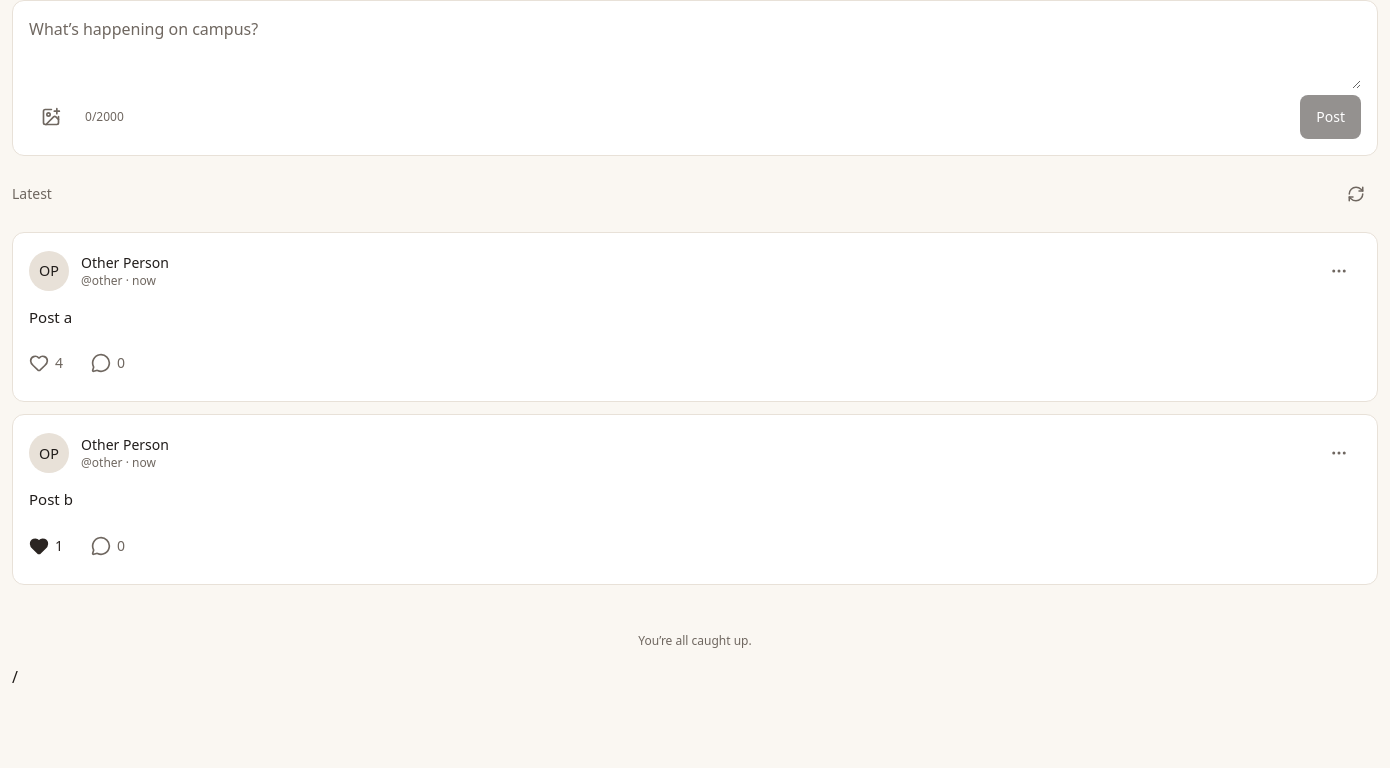
it: likes › unlikes with the DELETE call
The width and height of the screenshot is (1390, 768).
Click the button named "Unlike (1 like)": (50,546) [29, 524, 71, 568]
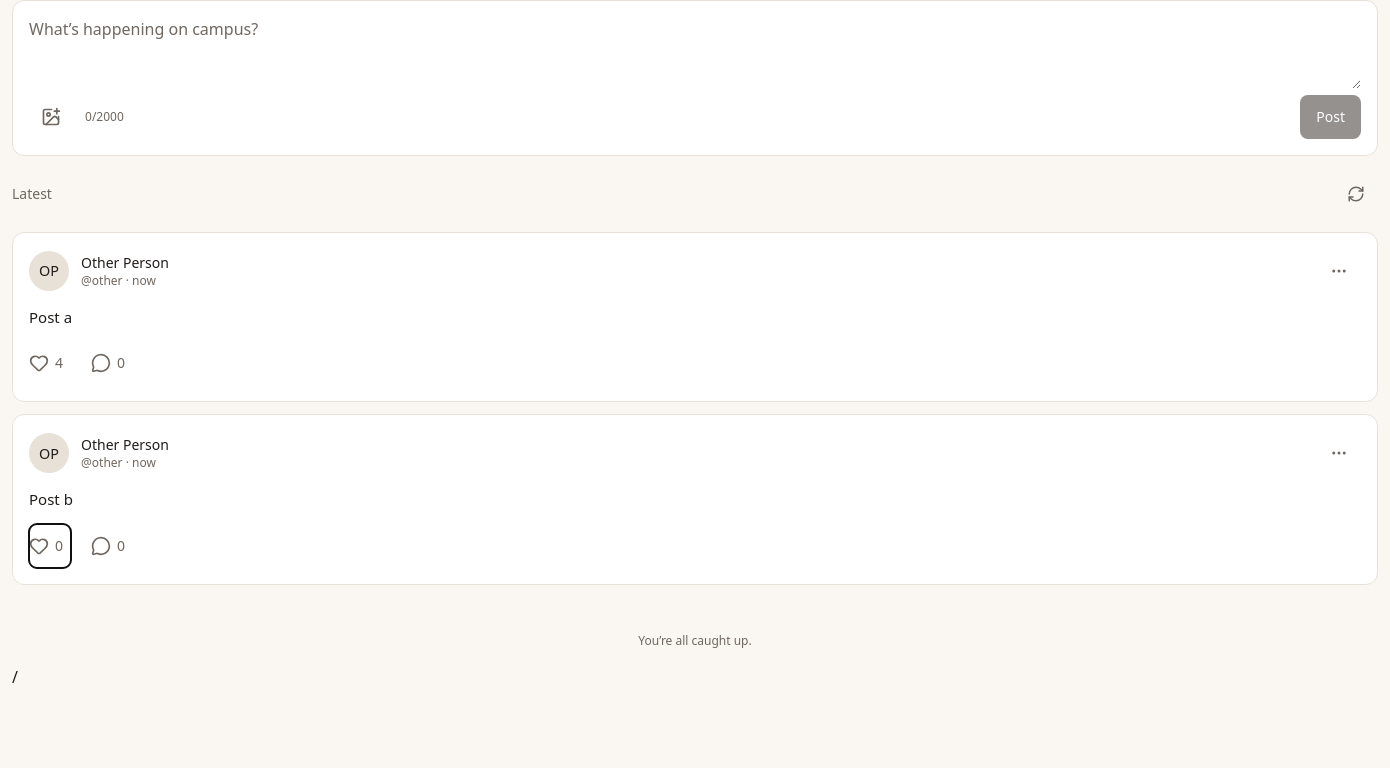
Expected: the button named "Like (0 likes)" is shown, [29, 524, 71, 568]
